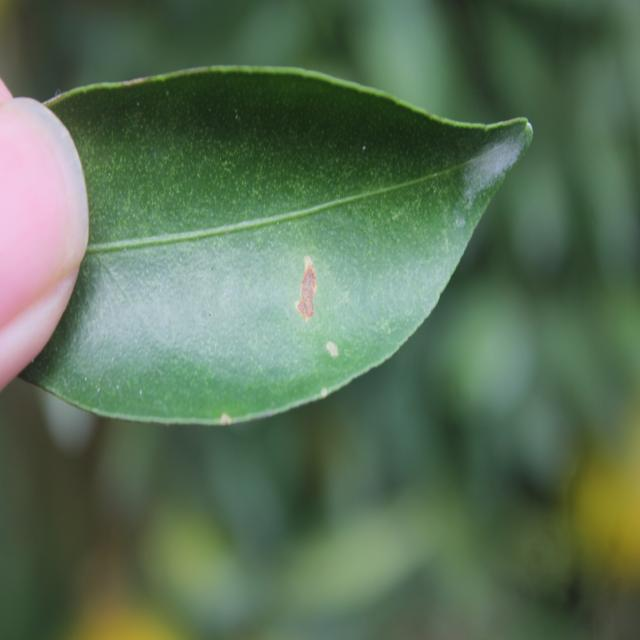canker: (257, 241, 348, 350)
